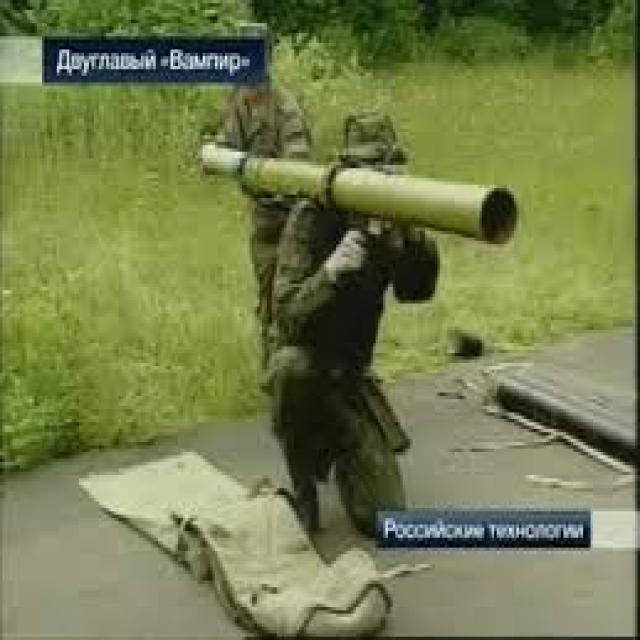bazooka: (184, 121, 539, 273)
